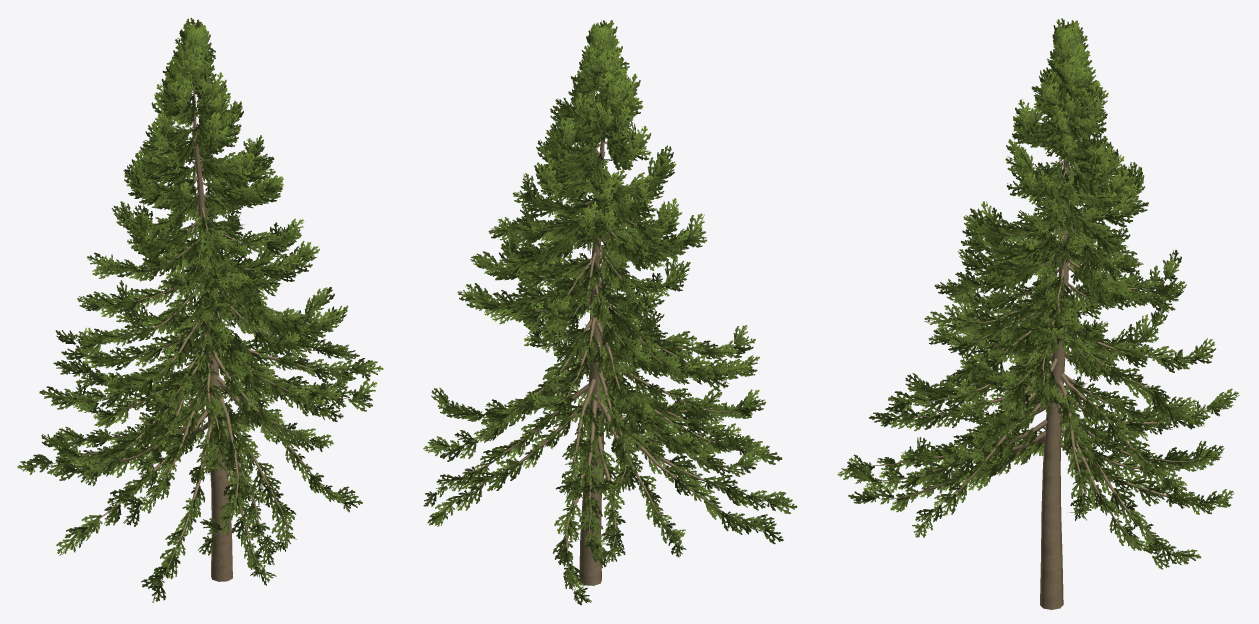
The model's file is pine-large.gltf.
The picture shows the model from 3 angles, left to right: view 1: azimuth 30°, elevation 25°; view 2: azimuth 150°, elevation 25°; view 3: azimuth 270°, elevation 25°; orthographic projection. The views are drawn at different scales.
Visible parts, largest first — view 1: Tree; view 2: Tree; view 3: Tree.
Part boxes in pixels (x1=…): Tree: x1=17, y1=17, x2=383, y2=602; Tree: x1=423, y1=20, x2=797, y2=605; Tree: x1=837, y1=18, x2=1239, y2=609.
Bounding box in the file's own units: 42.03 × 68.52 × 44.28.
Materials: 2 (2 with a texture image).
